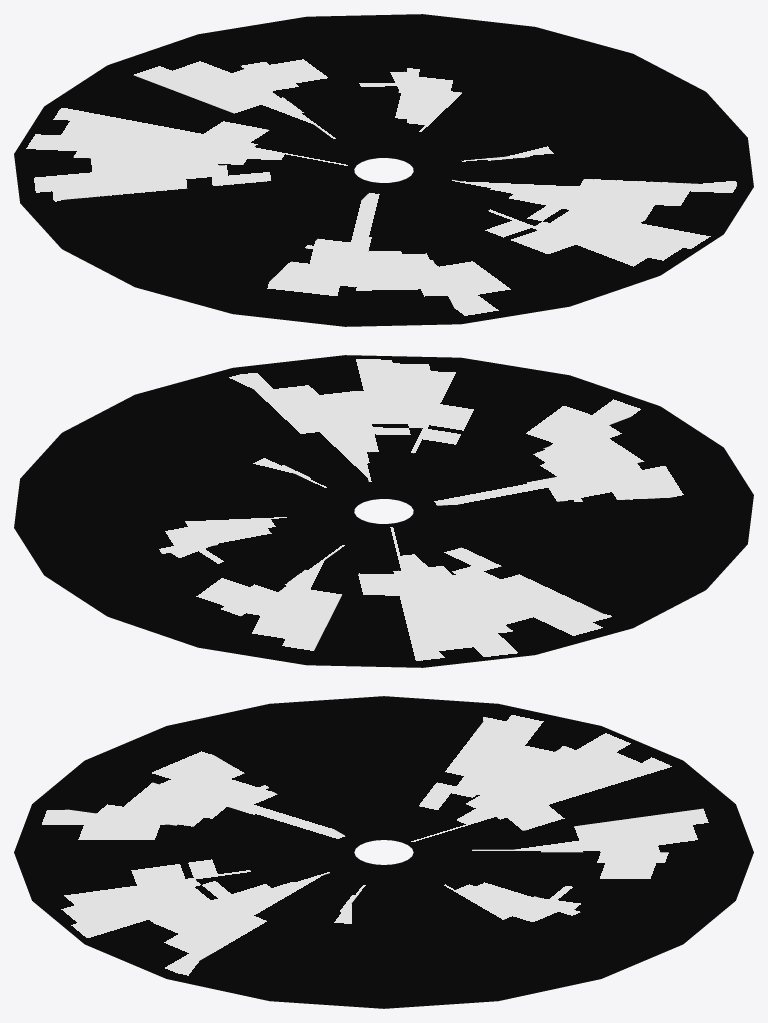
The model's file is Impact_Mesh.fbx.
3 renders of one model, top to bottom at view 1: azimuth 30°, elevation 25°; view 2: azimuth 150°, elevation 25°; view 3: azimuth 270°, elevation 25°, orthographic.
Visible parts, largest first — view 1: pCylinder2; view 2: pCylinder2; view 3: pCylinder2.
Part boxes in pixels (x1,y1,x2,y2): pCylinder2: (14,14,753,326); pCylinder2: (14,355,753,667); pCylinder2: (14,696,753,1008).
Size of the model in its own units: 8.92 by 3.81e-06 by 8.92.
Materials: 1 (1 with a texture image).
